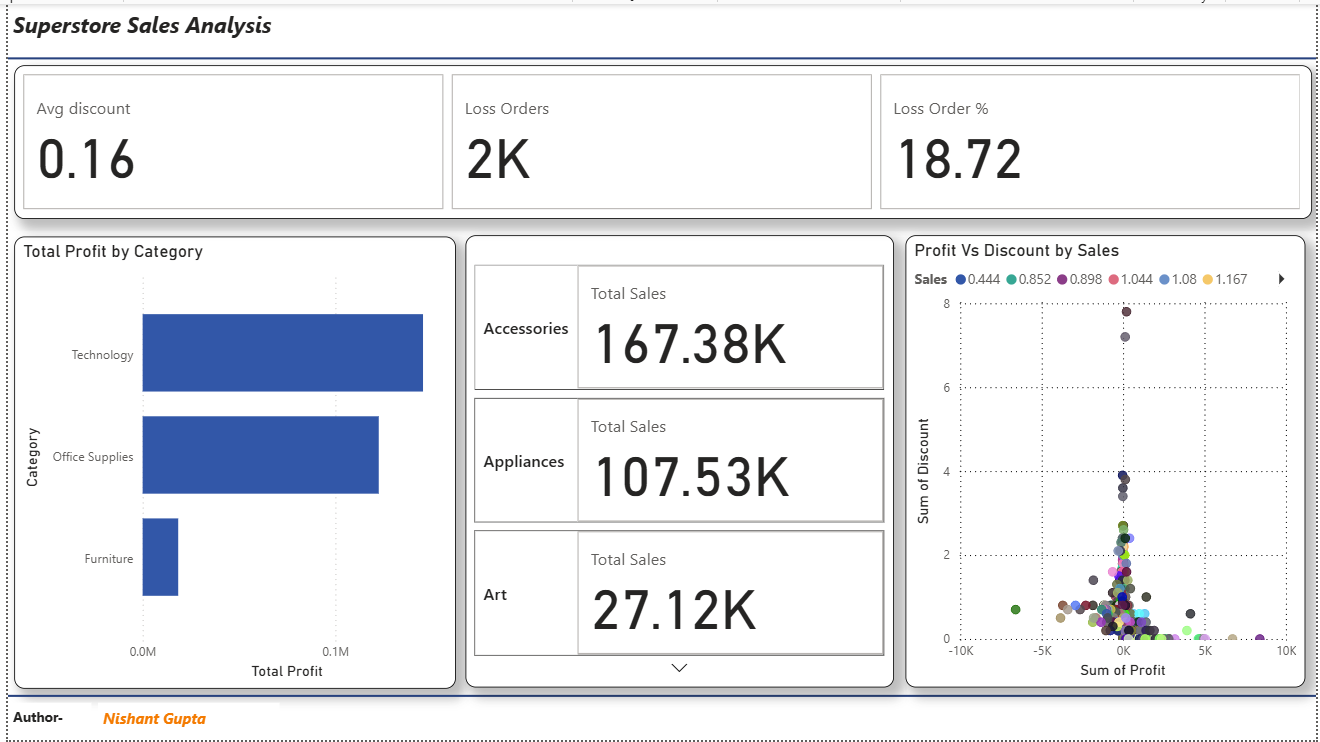

The dashboard page shown, as its layout file describes it:
{"tool":"powerbi","page":{"name":"Product Analysis","canvas":[1280,720],"ordinal":1},"visuals":[{"type":"barChart","fields":{"Y":["KPI.Total Profit"],"Category":["superstore_clean.Category"]},"box":[6.1,227.4,431.7,442.7],"z":0},{"type":"shape","box":[0,46.5,1280.3,13.5],"z":1000},{"type":"shape","box":[0,670.1,1280.3,13.5],"z":2000},{"type":"cardVisual","fields":{"Data":["KPI.Total Sales"],"Rows":["superstore_clean.Sub-Category"]},"box":[447.6,226.2,419.4,442.7],"z":3000},{"type":"cardVisual","fields":{"Data":["KPI.Avg discount","KPI.Loss Orders","KPI.Loss Order %"]},"box":[6.1,59.9,1269.3,150.4],"z":4000},{"type":"scatterChart","title":"Profit Vs Discount by Sales","fields":{"X":["Sum(superstore_clean.Profit)"],"Y":["Sum(superstore_clean.Discount)"],"Series":["superstore_clean.Sales"]},"box":[878,226.2,391.3,442.7],"z":5000},{"type":"textbox","box":[0,0,299.6,46.5],"z":6000},{"type":"textbox","box":[0,683.6,81.9,36.7],"z":7000},{"type":"textbox","box":[88,683.6,177.3,36.7],"z":7001}]}

Visuals, with their boxes in screenshot pixels (x1, y1, x2, y2), scaled from the page's 1280x720 canvas onto the 1320x742 screenshot:
barChart - KPI.Total Profit x superstore_clean.Category: bbox=(6, 234, 451, 691)
shape: bbox=(0, 48, 1319, 62)
shape: bbox=(0, 691, 1319, 704)
cardVisual - KPI.Total Sales x superstore_clean.Sub-Category: bbox=(462, 233, 894, 689)
cardVisual - KPI.Avg discount x KPI.Loss Orders: bbox=(6, 62, 1315, 217)
"Profit Vs Discount by Sales" scatterChart: bbox=(905, 233, 1309, 689)
textbox: bbox=(0, 0, 309, 48)
textbox: bbox=(0, 704, 84, 741)
textbox: bbox=(91, 704, 274, 741)
